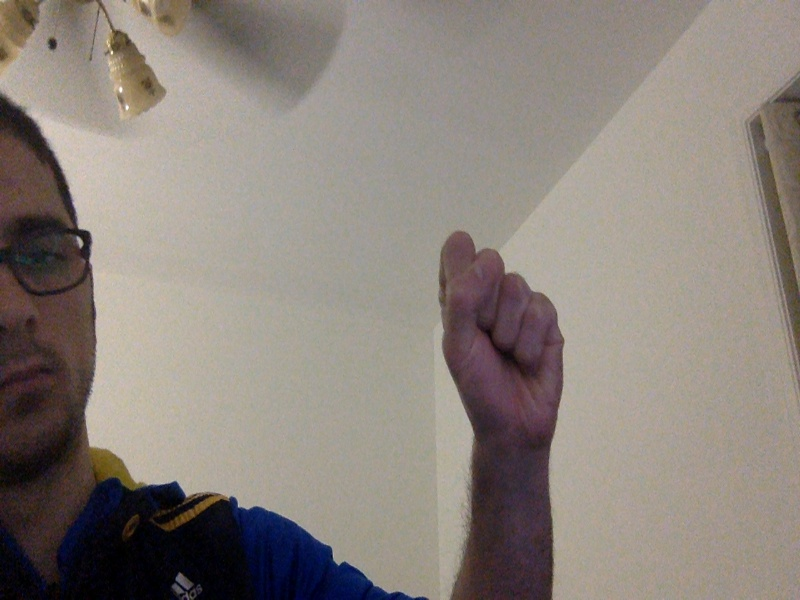0-hand: (437, 230, 565, 435)
